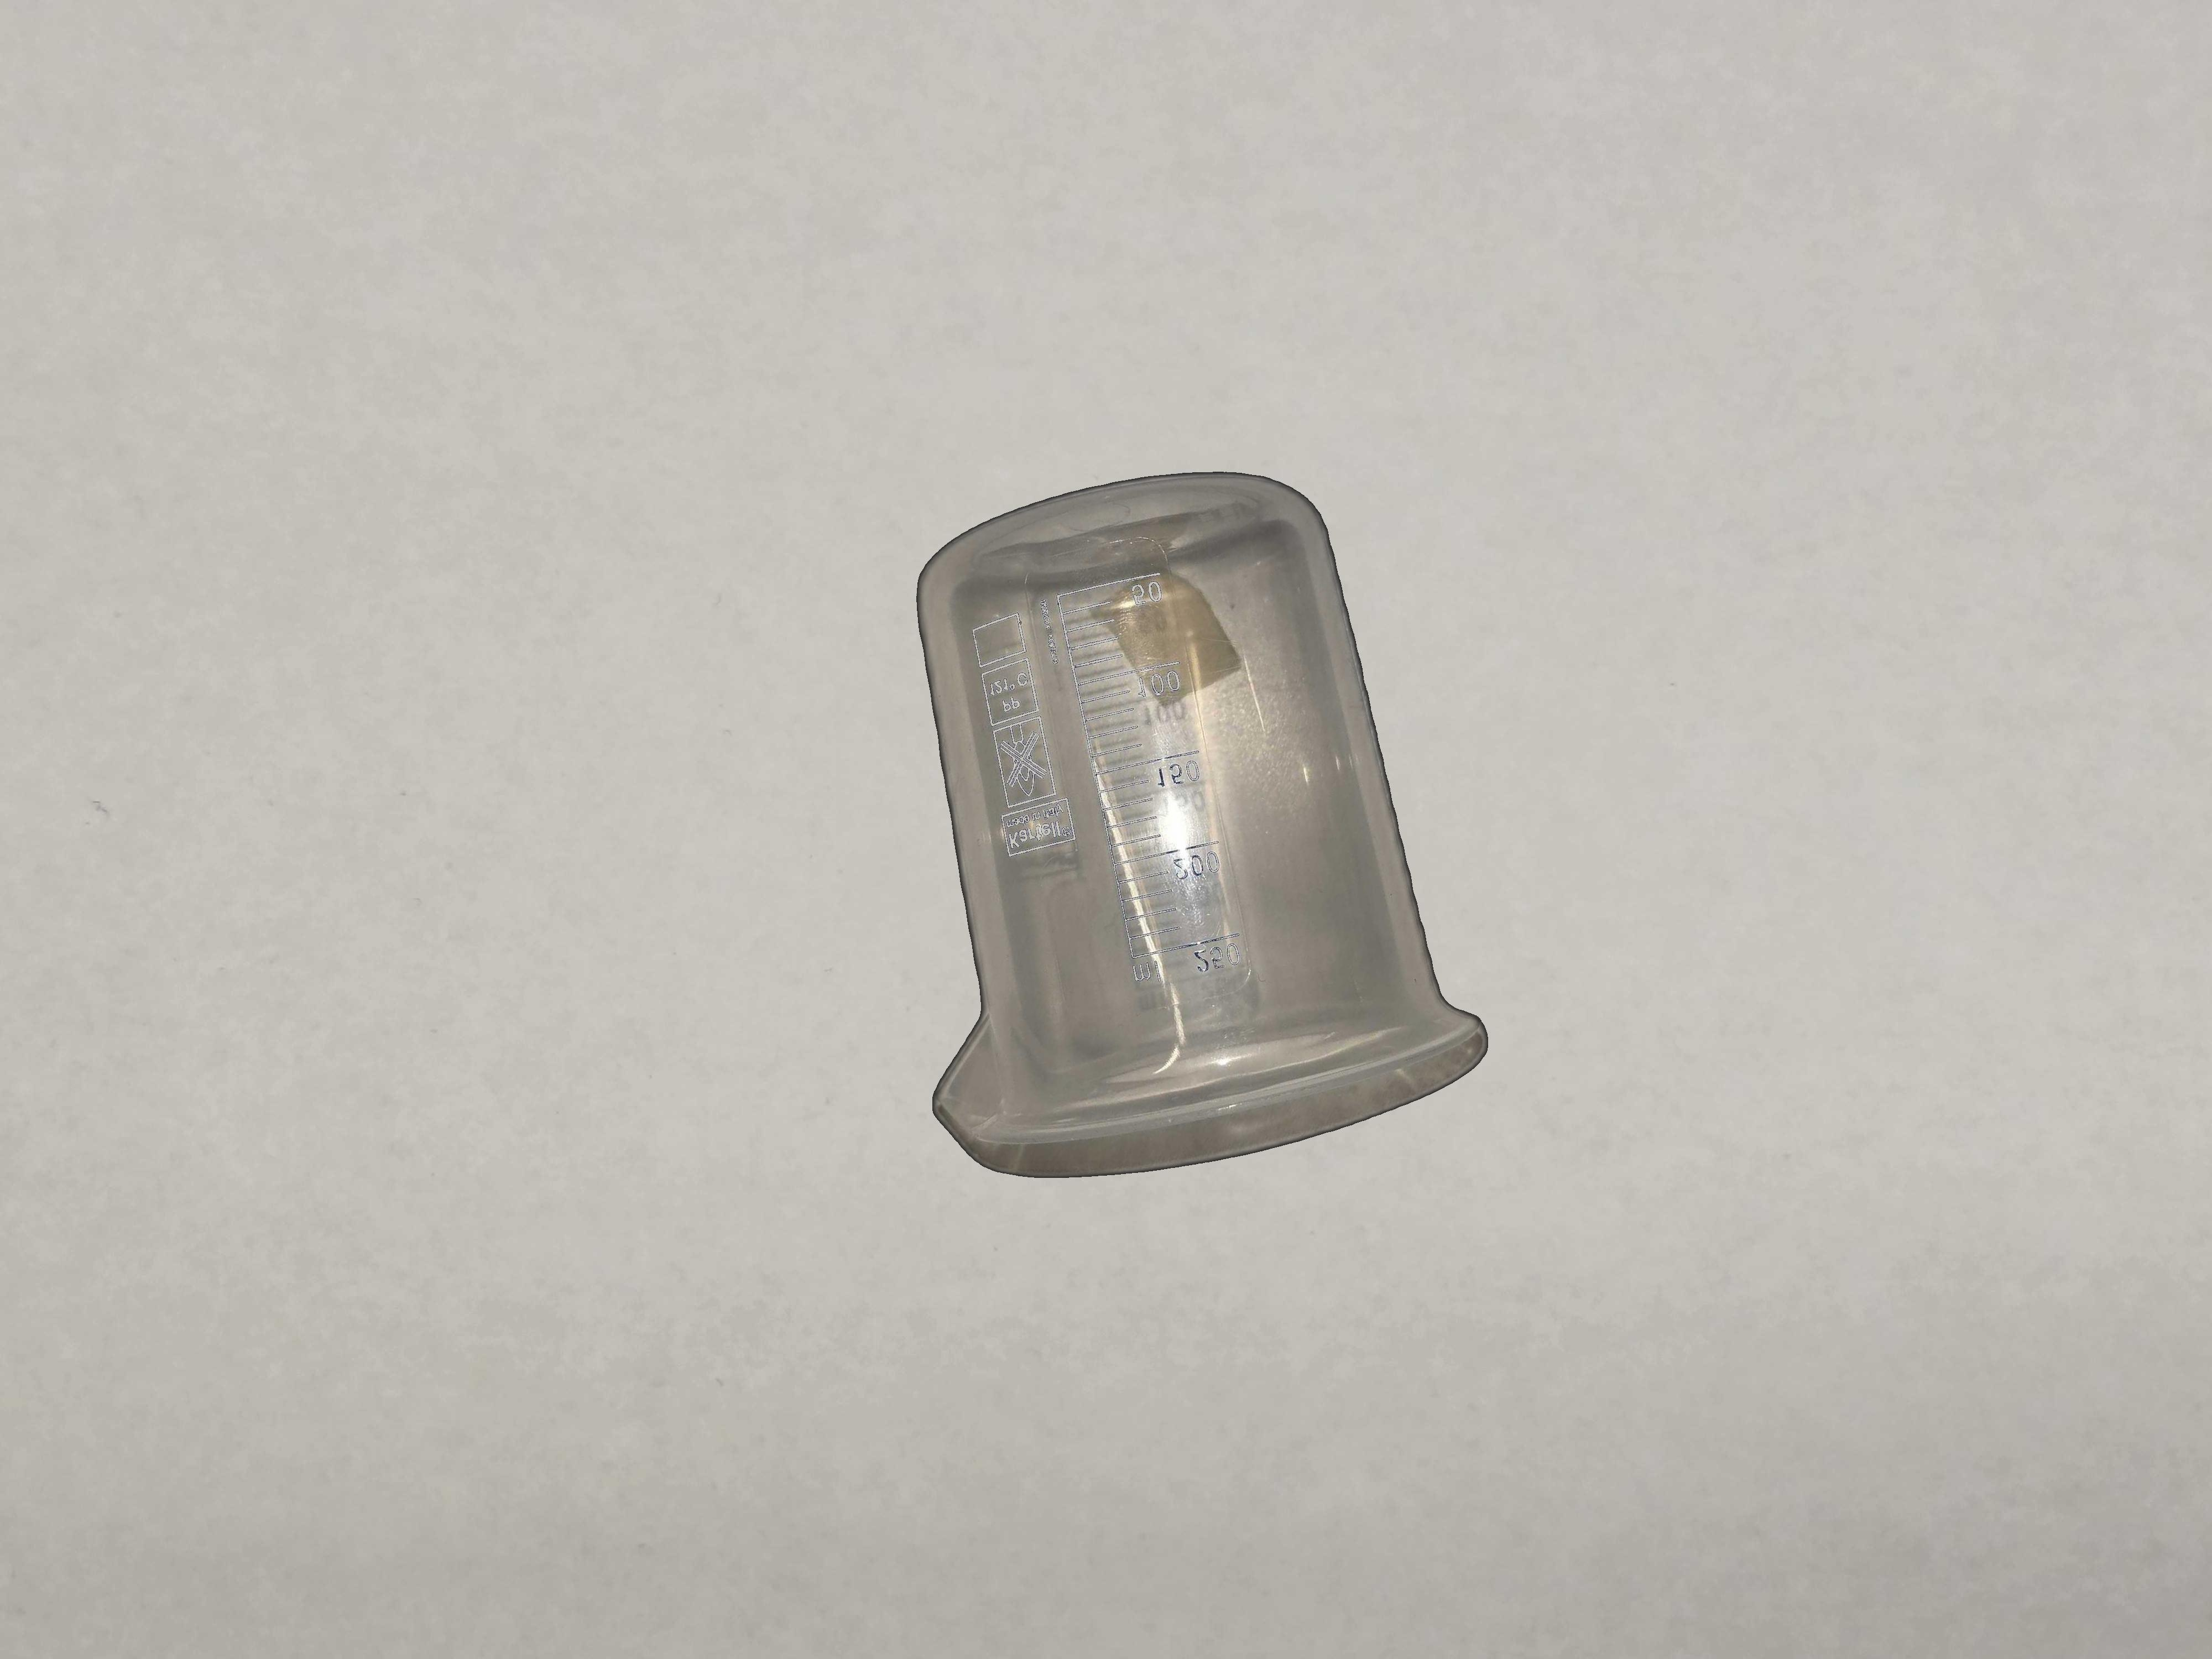becker: (914, 469, 1489, 1180)
